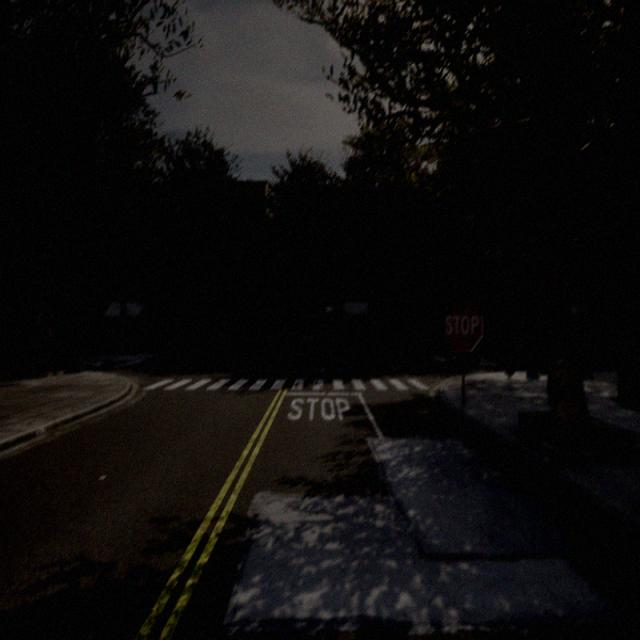stop sign: (440, 304, 486, 354), (444, 312, 481, 337)
